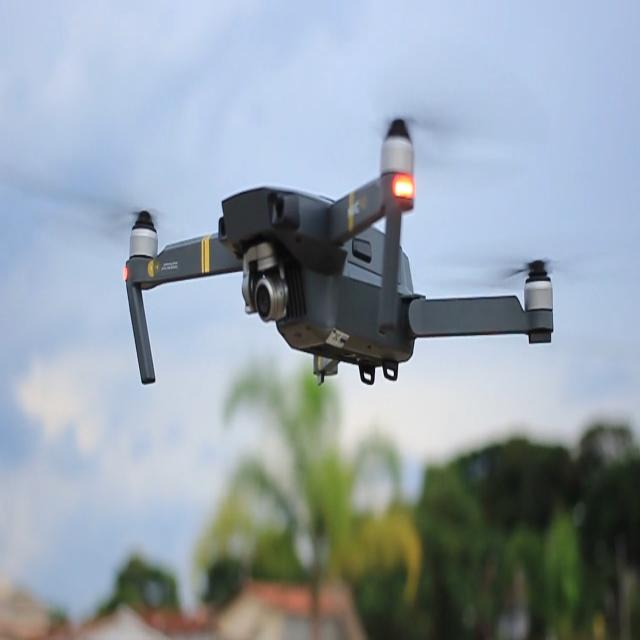drone: (6, 113, 572, 388)
